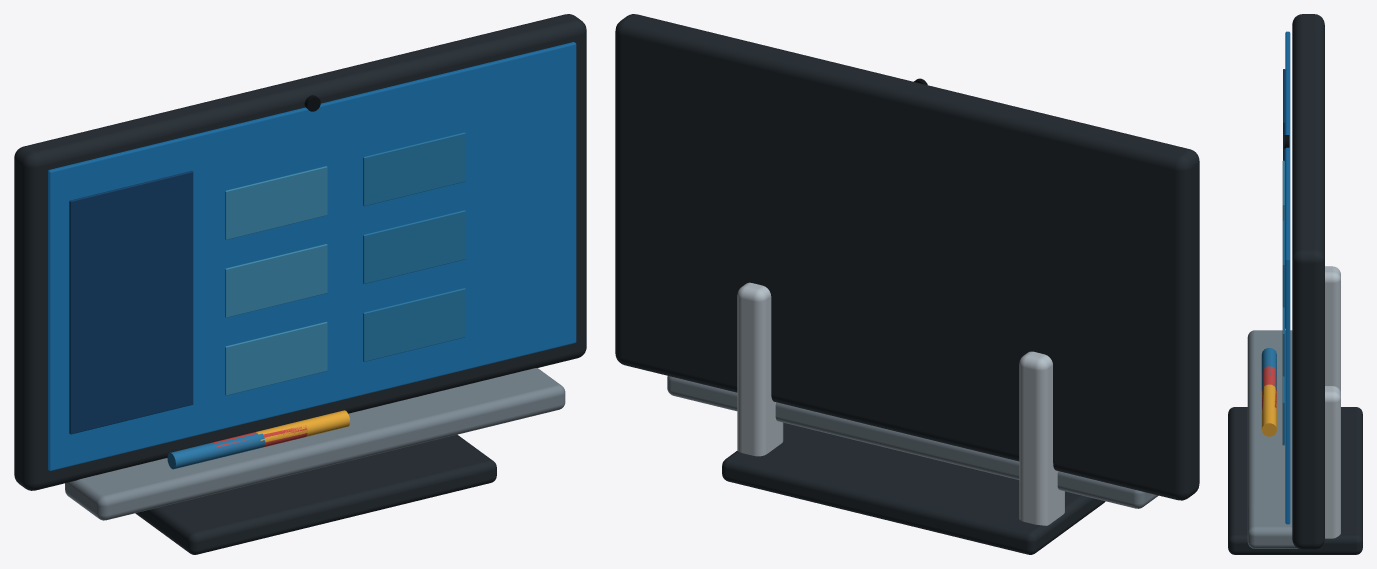
The model's file is smart-board.glb.
3 renders of one model, left to right at view 1: azimuth 30°, elevation 25°; view 2: azimuth 150°, elevation 25°; view 3: azimuth 270°, elevation 25°, orthographic. The views are drawn at different scales.
Parts seen in each view (by area): view 1: 4K touch display, Interactive display chassis, Interactive lesson tile (×6), Lesson toolbar, Pen and accessory tray, Mobile base, Digital pen (×2); view 2: Interactive display chassis, Mobile base, Height mount (×2), Pen and accessory tray; view 3: Interactive display chassis, Pen and accessory tray, Mobile base, Height mount (×2), 4K touch display, Digital pen (×3), Interactive lesson tile (×3), Lesson toolbar.
Boxes of the visible parts, x1,y1,x2,y2 form: 4K touch display: (48, 42, 576, 470); Interactive display chassis: (14, 14, 586, 490); Interactive lesson tile (×6): (225, 132, 465, 395); Lesson toolbar: (69, 171, 193, 434); Pen and accessory tray: (65, 368, 565, 520); Mobile base: (135, 434, 496, 554); Digital pen (×2): (167, 410, 350, 469); Interactive display chassis: (615, 14, 1199, 500); Mobile base: (722, 422, 1105, 554); Height mount (×2): (737, 282, 1064, 525); Pen and accessory tray: (667, 376, 1158, 508); Interactive display chassis: (1292, 14, 1324, 549); Pen and accessory tray: (1247, 330, 1298, 548); Mobile base: (1228, 407, 1362, 554); Height mount (×2): (1325, 266, 1340, 538); 4K touch display: (1285, 31, 1290, 524); Digital pen (×3): (1261, 348, 1276, 436); Interactive lesson tile (×3): (1282, 220, 1284, 445); Lesson toolbar: (1283, 69, 1285, 328).
Size of the model in its own units: 2.65 by 1.82 by 0.62.
